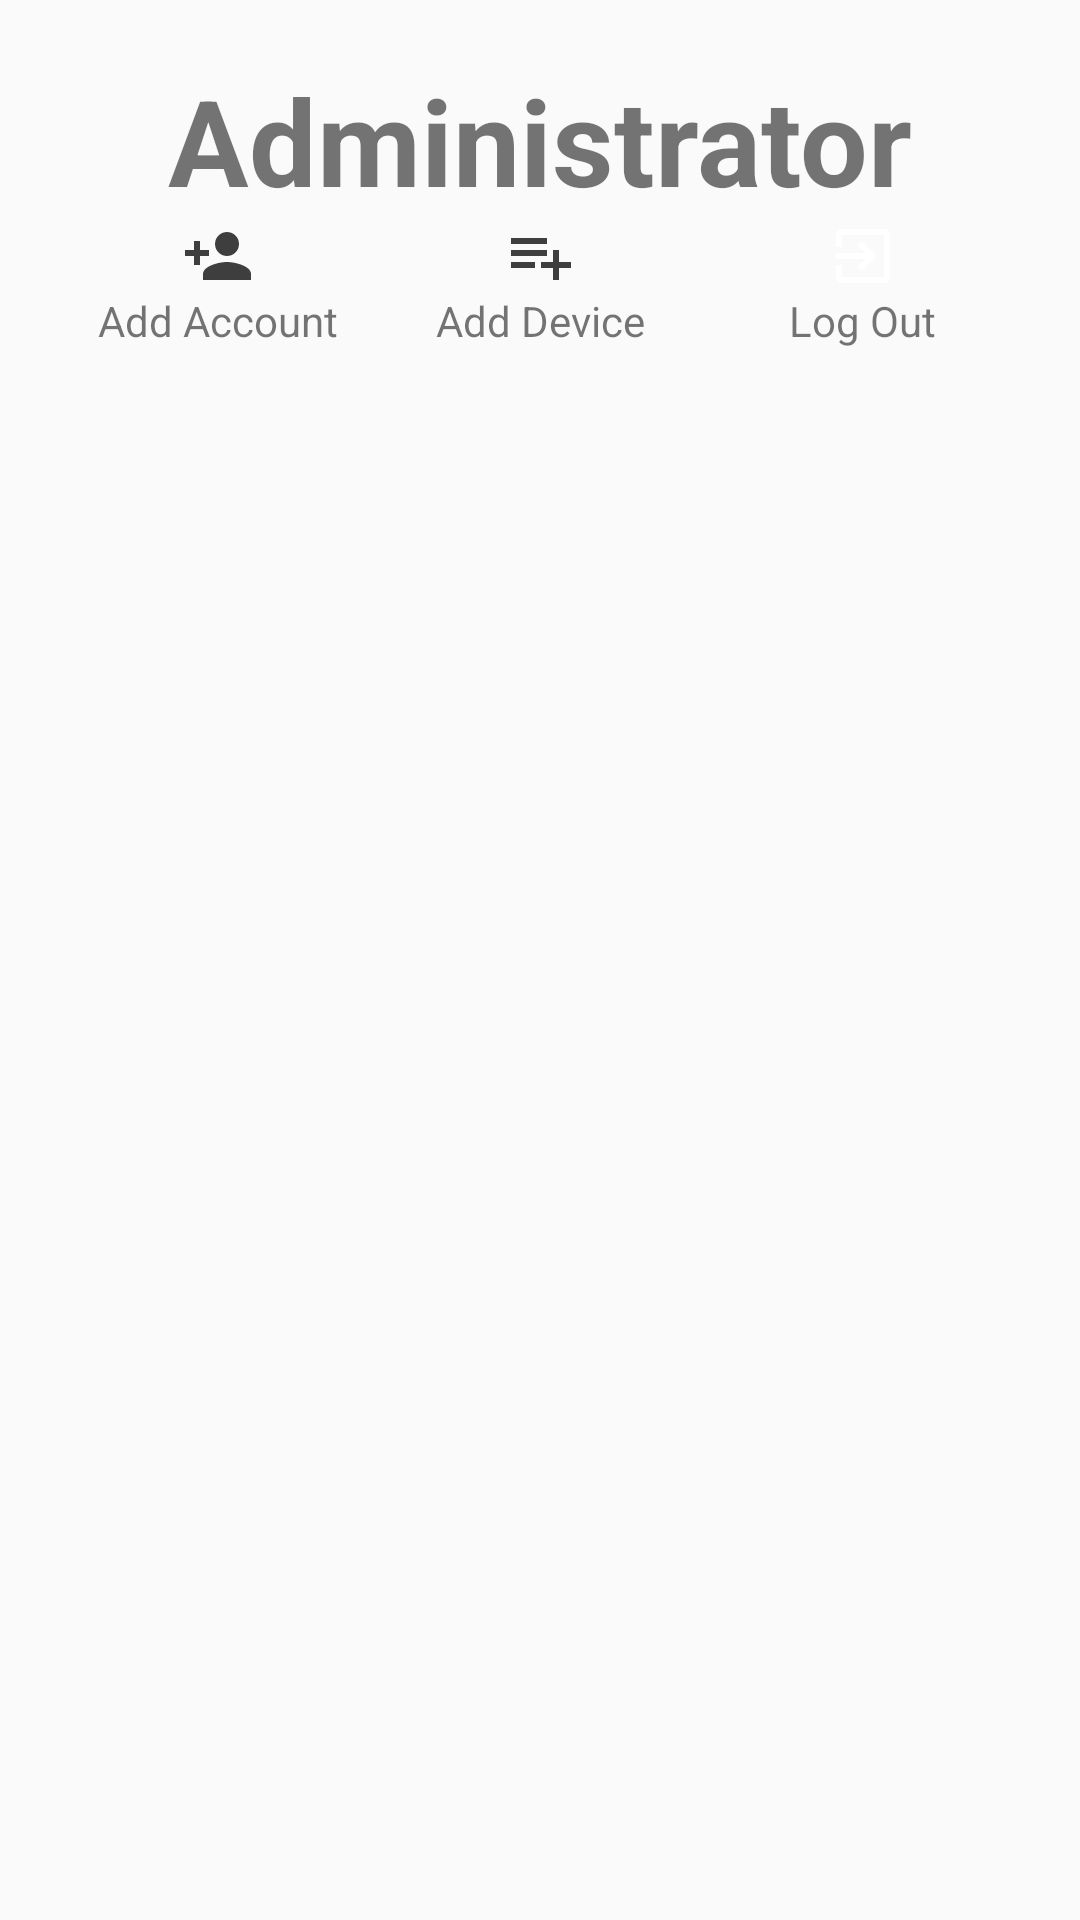

Named icons in this screenshot (1080*1920) and their centers, (x,y):
add admin: (218,256)
